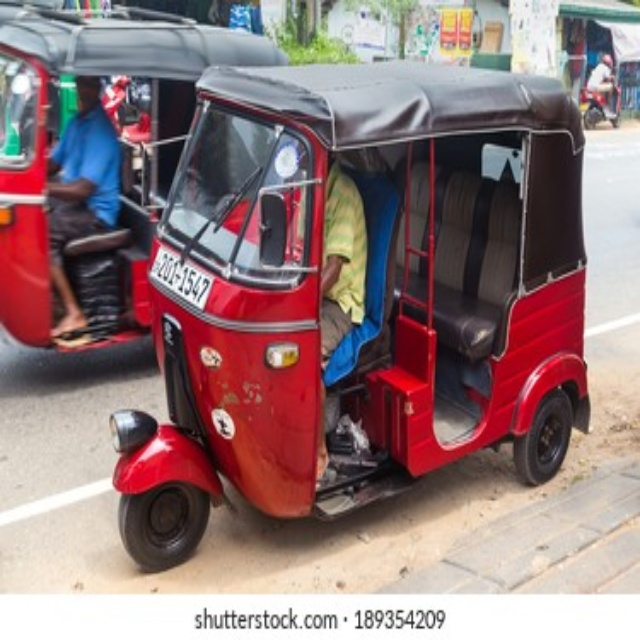Motorcycle: (108, 64, 592, 574), (2, 18, 201, 350)
